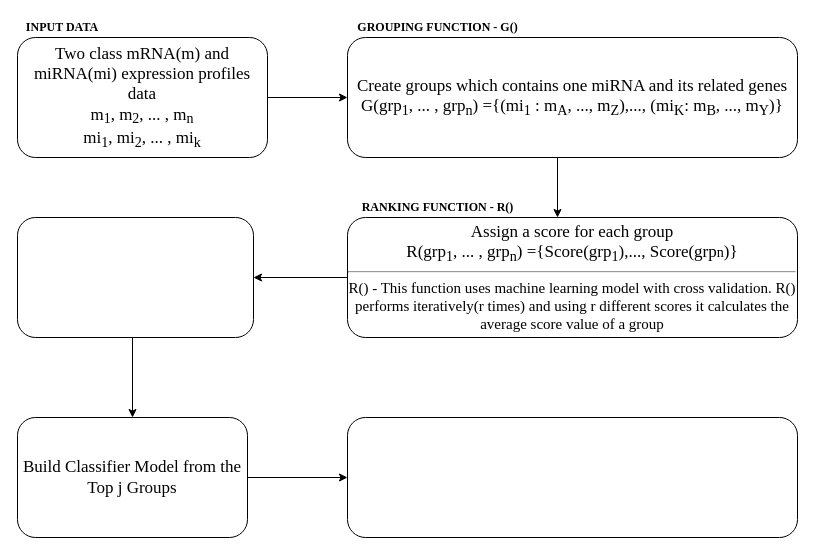
This 815x555 diagram has some shape labels left out. The box of each missing label's shape, as (x1, y1, x2, y2) in pixels:
Evaluate the Model on Test Data: (346, 416, 798, 538)
Generate Training Data via Ranked Groups: (16, 216, 254, 338)
